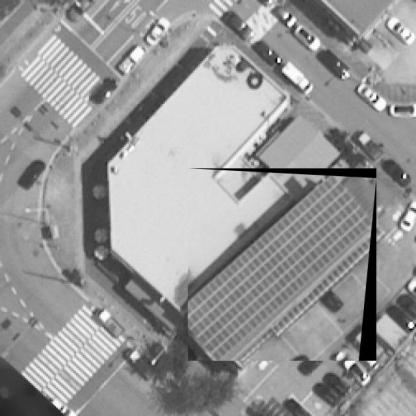solar-pv-panel: (188, 174, 373, 361)
